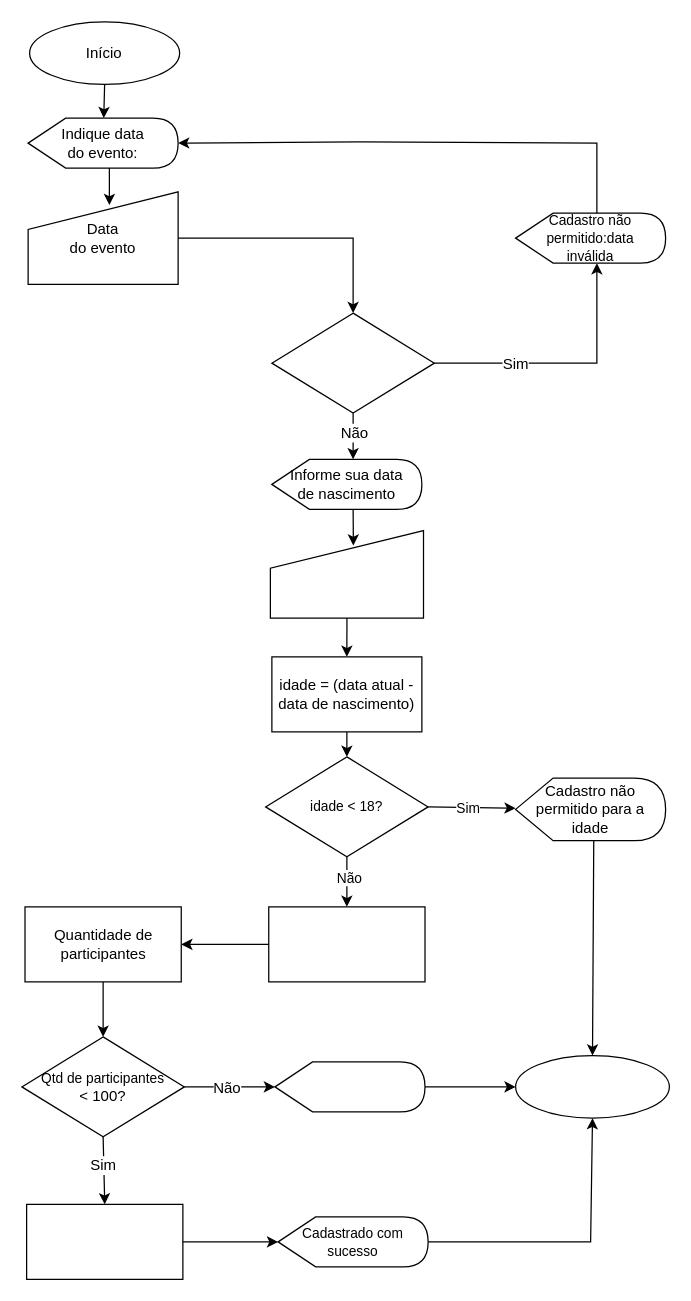
This 691x1301 diagram has some shape labels left out. The shapes that lost their labels are listed below. From the top down, each one's centre as x and y in pixels, then its label:
the point at 352,362: Data do evento <= Data atual?
the point at 346,573: Data de nascimento
the point at 346,944: Lista de participantes e palestrantes
the point at 349,1086: Limite de participantes excedido
the point at 591,1086: Fim
the point at 104,1241: Cadastro no evento
